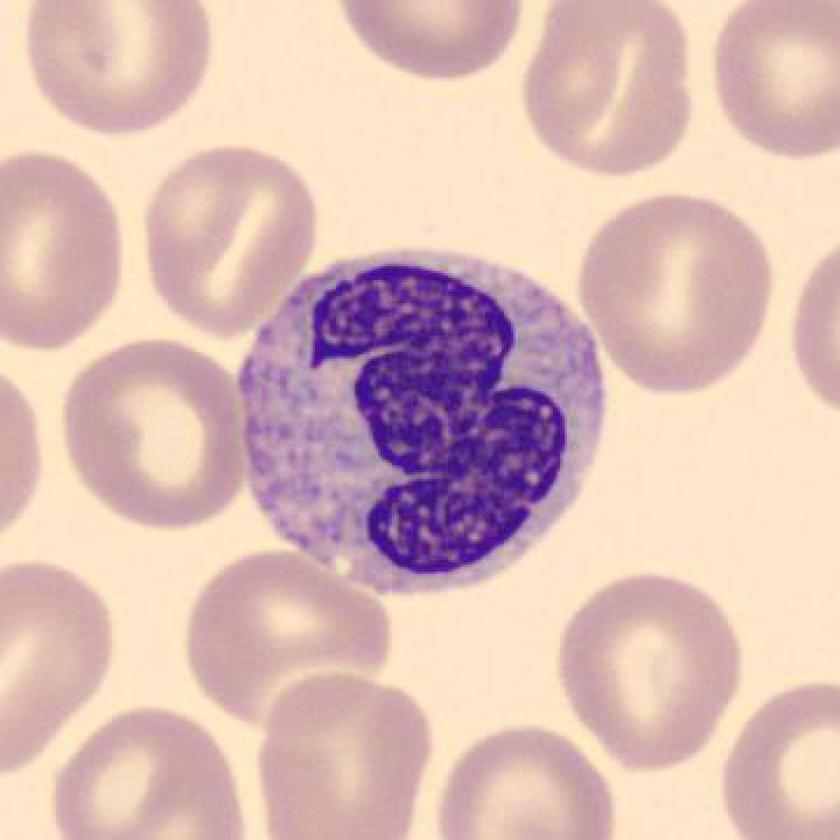monocyte: (216, 230, 626, 614)
